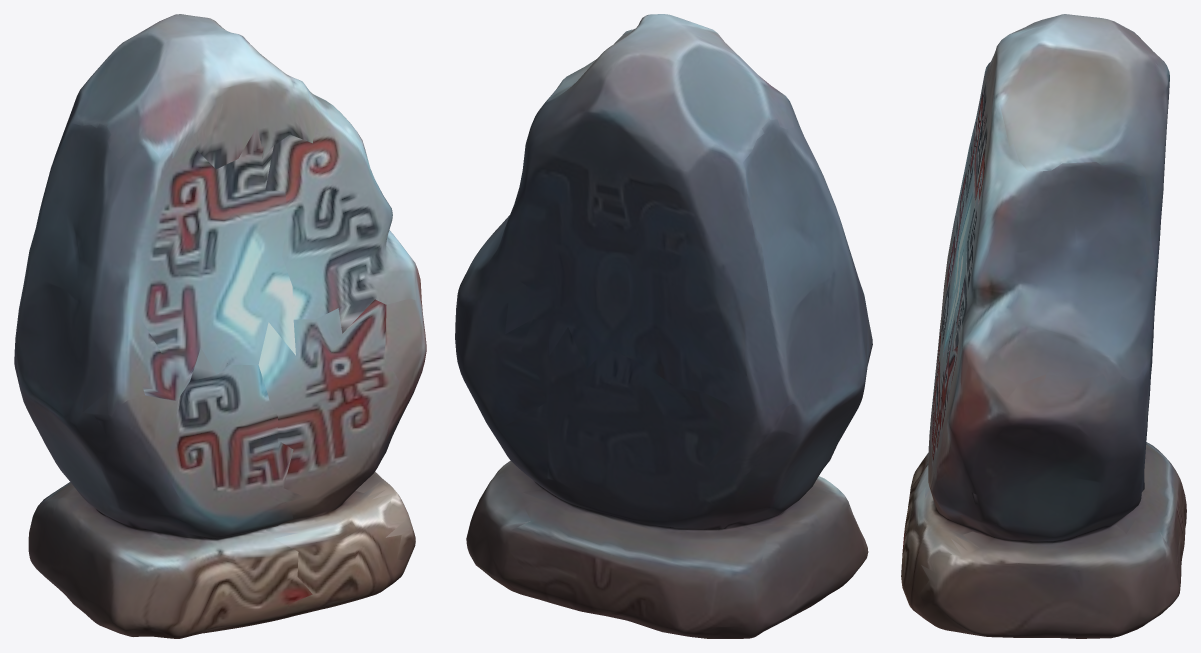
Rendered from u03_pedra_runas.glb.
The picture shows the model from 3 angles, left to right: view 1: azimuth 30°, elevation 25°; view 2: azimuth 150°, elevation 25°; view 3: azimuth 270°, elevation 25°; orthographic projection. The views are drawn at different scales.
Visible parts, largest first — view 1: u03_pedra_runas; view 2: u03_pedra_runas; view 3: u03_pedra_runas.
Part boxes in pixels (box(x1,y1,x2,y2)): u03_pedra_runas: box(14, 14, 426, 638); u03_pedra_runas: box(455, 14, 872, 638); u03_pedra_runas: box(901, 14, 1186, 638).
Size of the model in its own units: 0.5529 by 0.8007 by 0.3837.
Materials: 1 (1 with a texture image).
